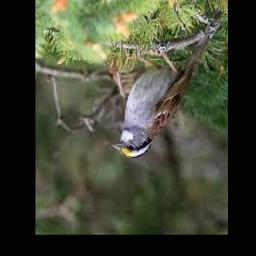Sparrow: (111, 31, 211, 159)
